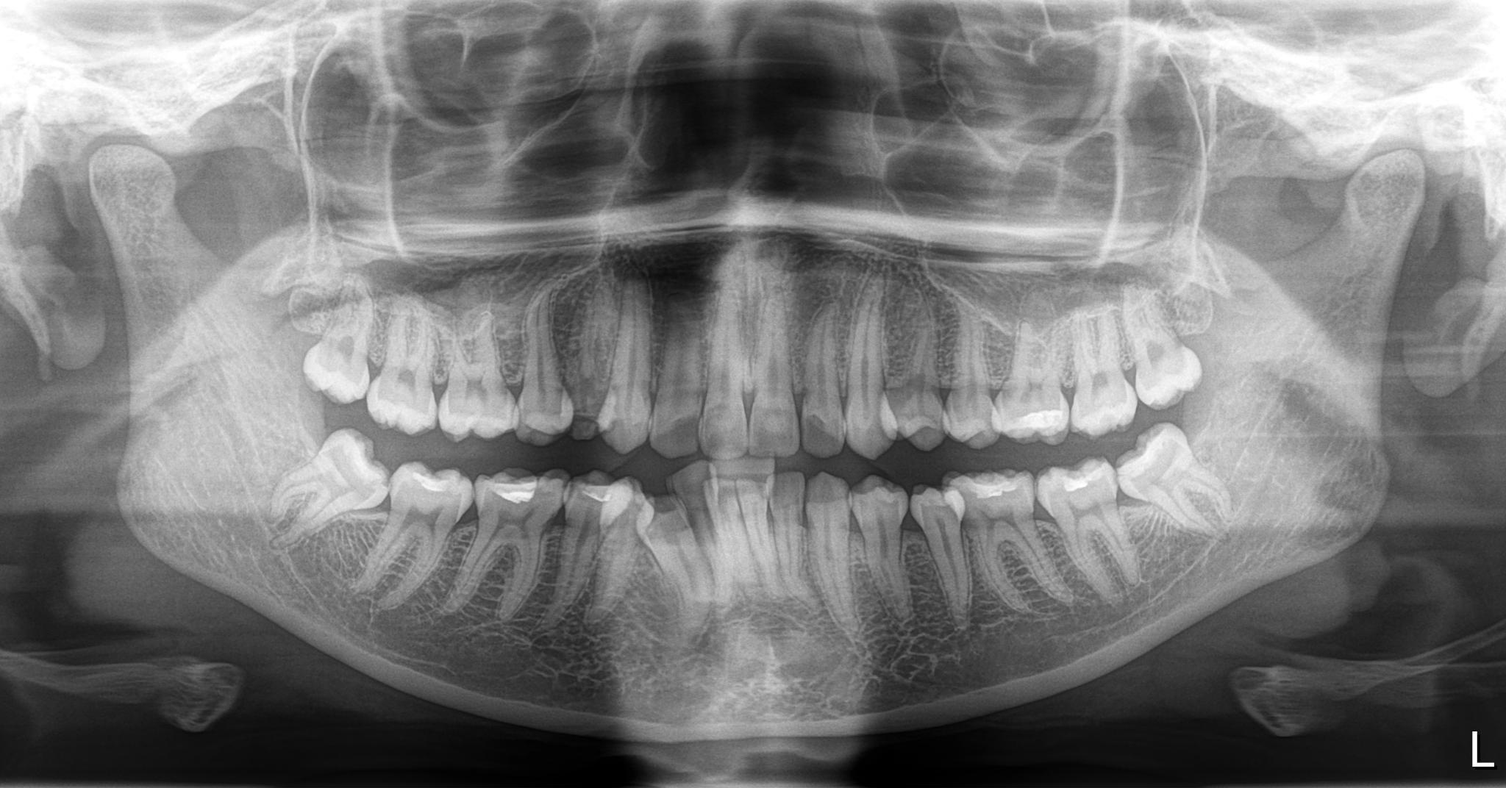Impacted Third Molar: (294, 434, 383, 534)
